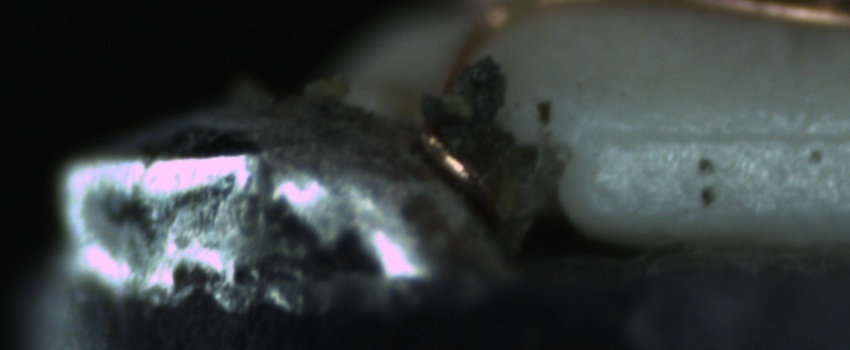DL: (596, 105, 849, 166)
